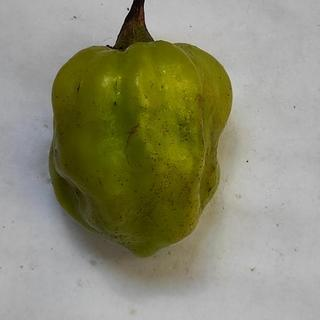Fly-bites: (108, 98, 120, 111)
striped: (122, 121, 144, 151), (75, 83, 83, 96)
